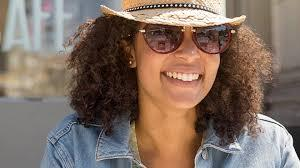sunglasses: (140, 16, 237, 60)
